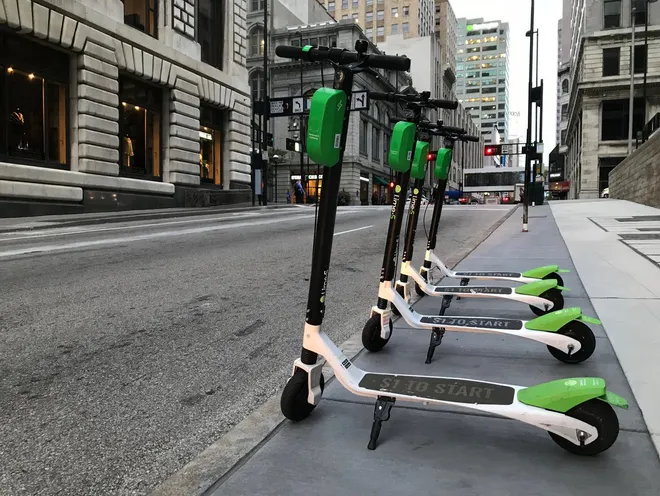scooter: (269, 44, 622, 459)
